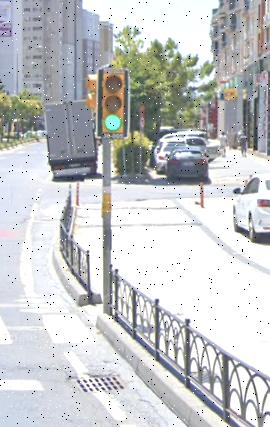greenlight: (100, 69, 127, 135)
